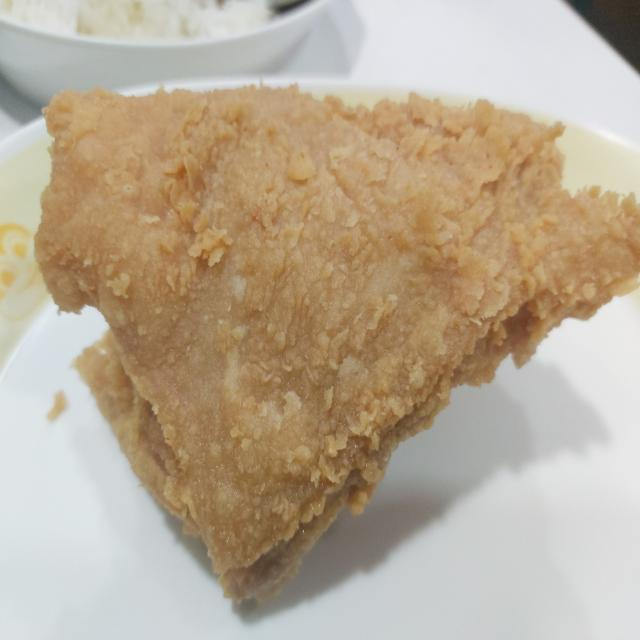Chicken -Fried Chicken-: (29, 59, 640, 616)
